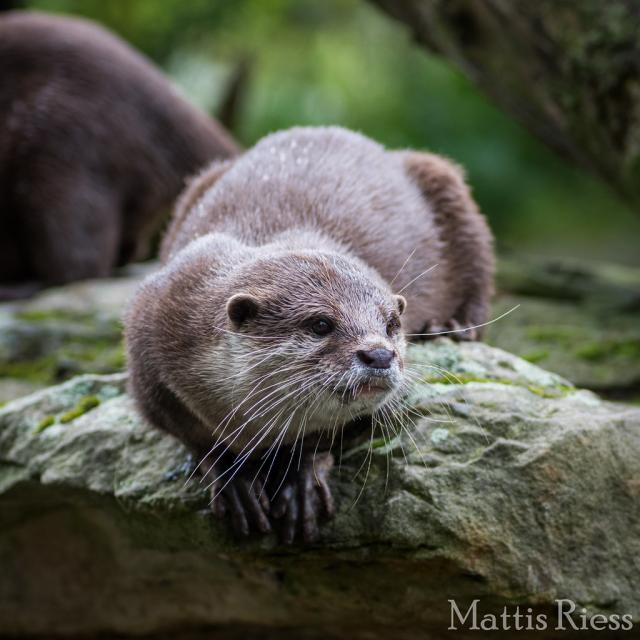otter: (127, 129, 484, 468)
